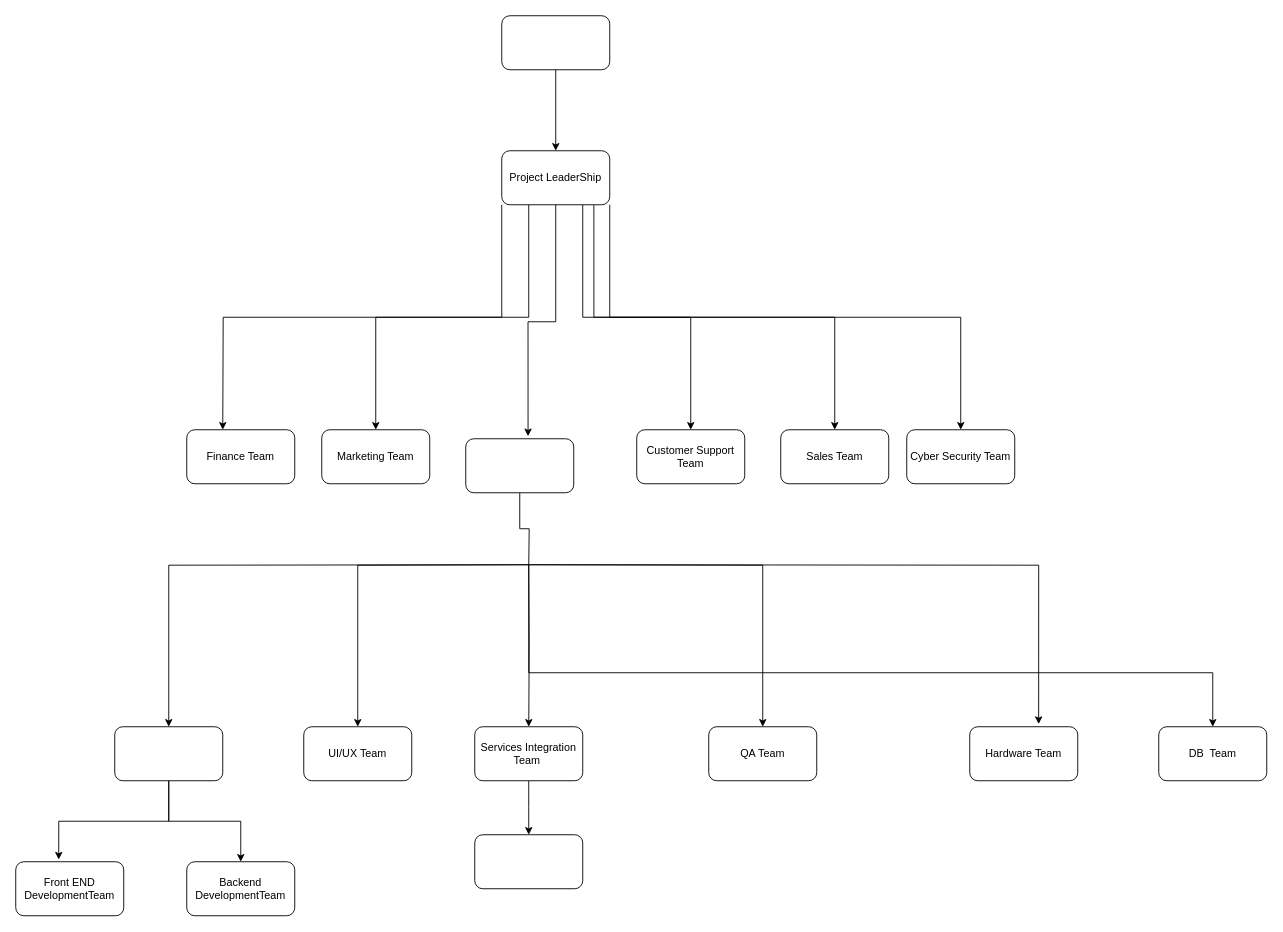
This 1283x932 diagram has some shape labels left out. Each missing label, with the centre of its shape:
"API Developers" belongs at point (528, 861).
"Development Team" belongs at point (168, 753).
"Product Development Team" belongs at point (519, 465).
"Project Six" belongs at point (555, 42).
